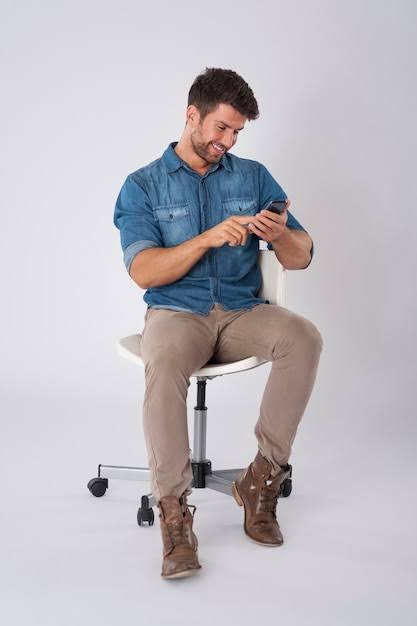distracted: (155, 42, 304, 254)
